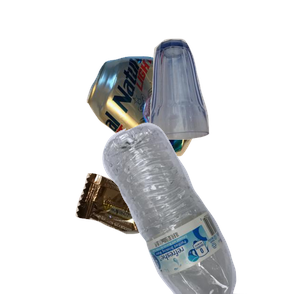glass: (147, 36, 300, 168)
metal: (84, 53, 279, 202)
plastic: (100, 120, 300, 300)
trash: (73, 171, 242, 300)
